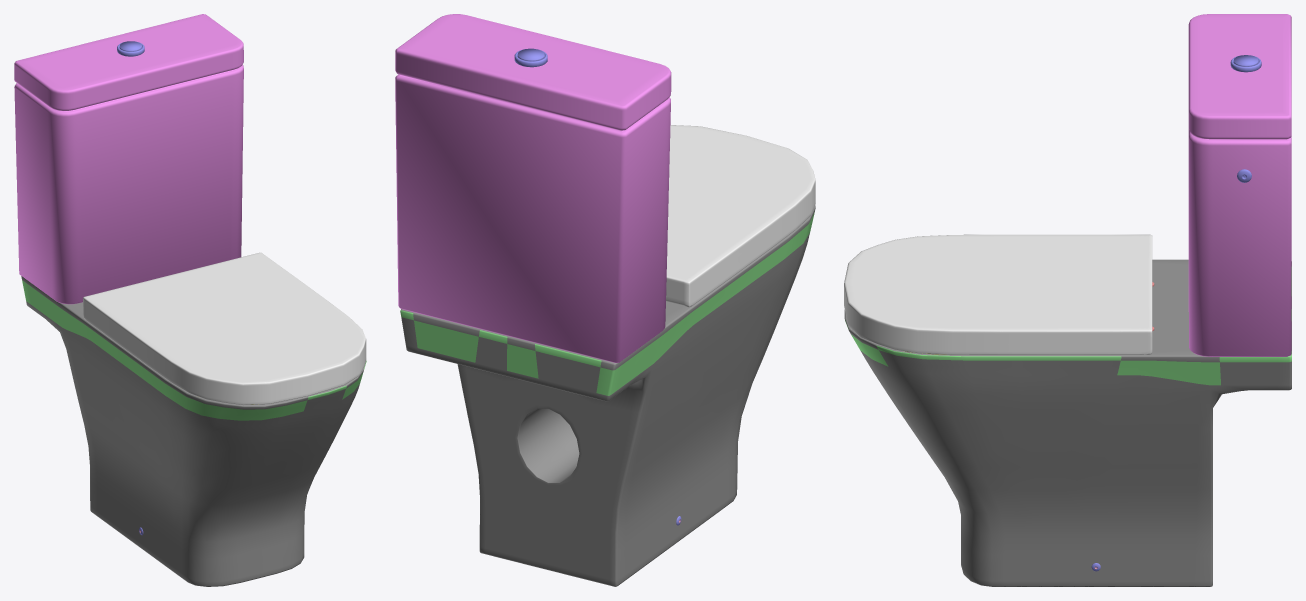
Rendered from toiletmesh.fbx.
The picture shows the model from 3 angles, left to right: view 1: azimuth 30°, elevation 25°; view 2: azimuth 150°, elevation 25°; view 3: azimuth 270°, elevation 25°; orthographic projection. The views are drawn at different scales.
Visible parts, largest first — view 1: toiletmesh; view 2: toiletmesh; view 3: toiletmesh.
Boxes of the visible parts, x1,y1,x2,y2 form: toiletmesh: [14, 14, 366, 586]; toiletmesh: [395, 14, 815, 586]; toiletmesh: [844, 14, 1291, 586].
Bounding box in the file's own units: 72.36 × 157 × 129.
